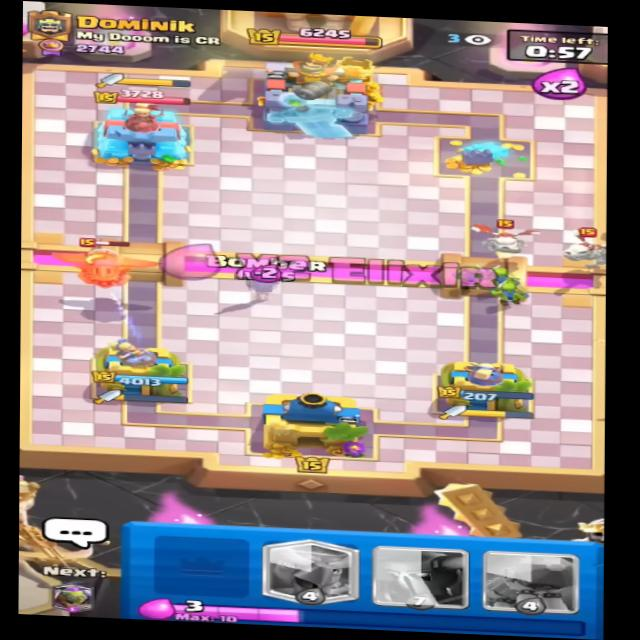inferno-dragon: (63, 234, 153, 290)
skeleton-dragon: (466, 214, 534, 259), (549, 224, 616, 269)
